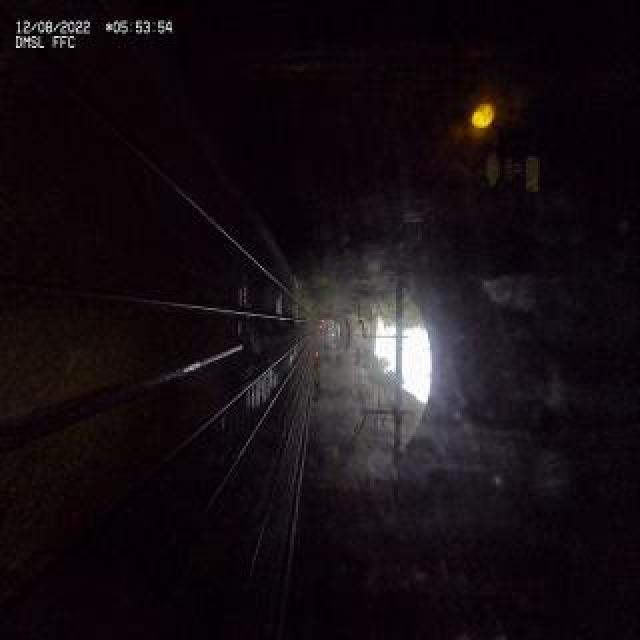Signal-Yellow: (454, 93, 544, 141)
